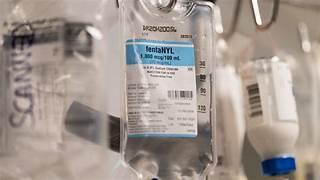Iv_Bottle: (121, 0, 214, 179), (2, 0, 104, 151), (240, 56, 298, 175), (208, 39, 246, 179)
